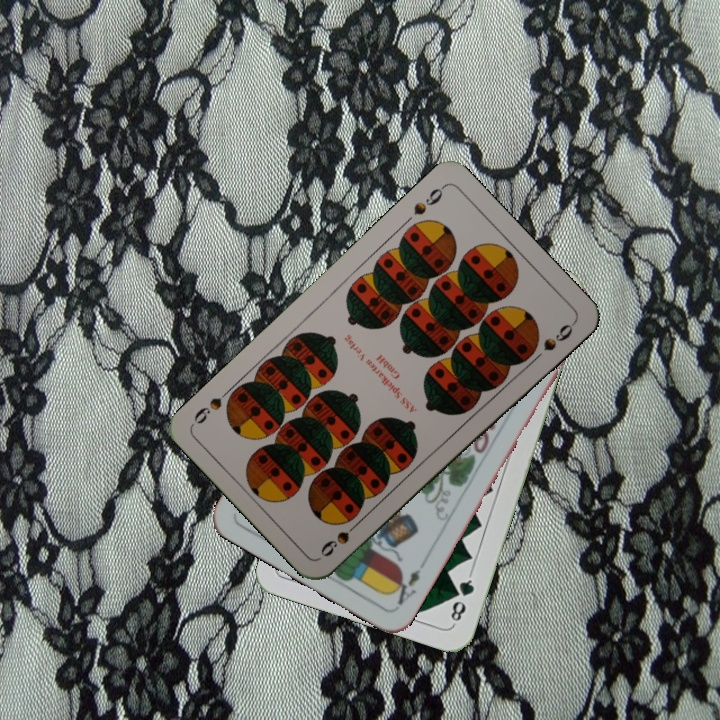EA: (386, 565, 424, 608)
G8: (446, 570, 477, 627)
S9: (316, 515, 365, 560), (409, 181, 448, 218)
